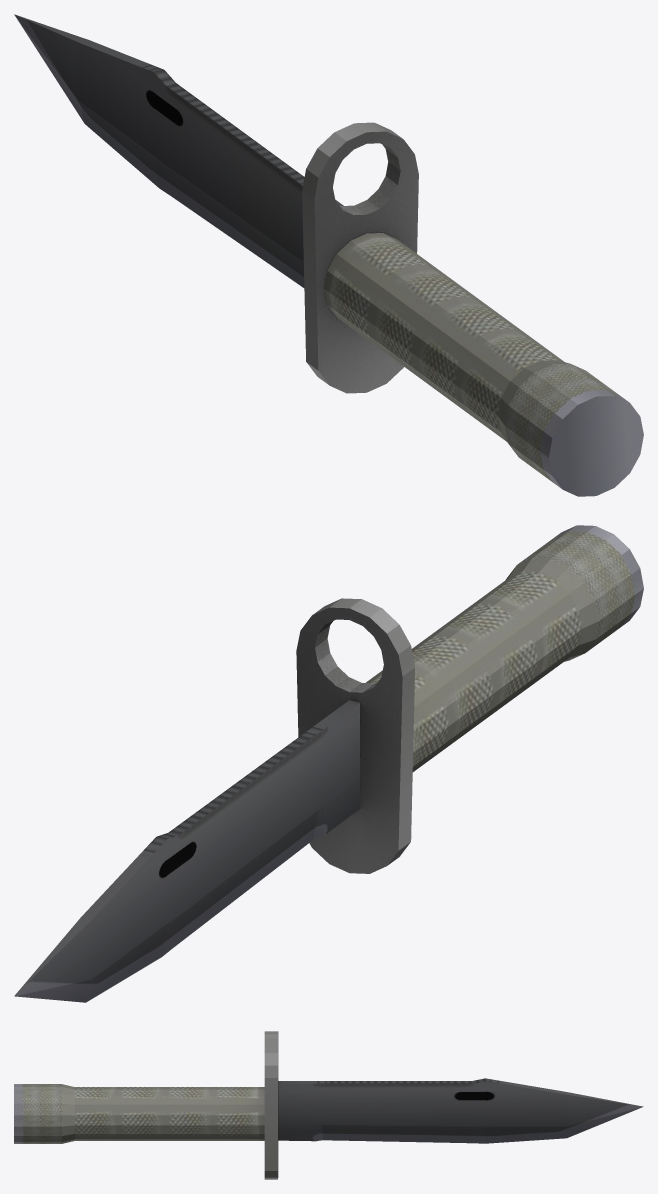
The model's file is w_knife.glb.
3 views of the same model, one above another, from view 1: azimuth 30°, elevation 25°; view 2: azimuth 150°, elevation 25°; view 3: azimuth 270°, elevation 25° (orthographic). The views are drawn at different scales.
Parts seen in each view (by area): view 1: w_knife; view 2: w_knife; view 3: w_knife.
Part boxes in pixels (x1,y1,x2,y2): w_knife: (14,14,643,496); w_knife: (14,525,643,1002); w_knife: (14,1031,643,1179).
Bounding box in the file's own units: 0.0323 × 0.0769 × 0.3087.
1 material, 1 textured.
